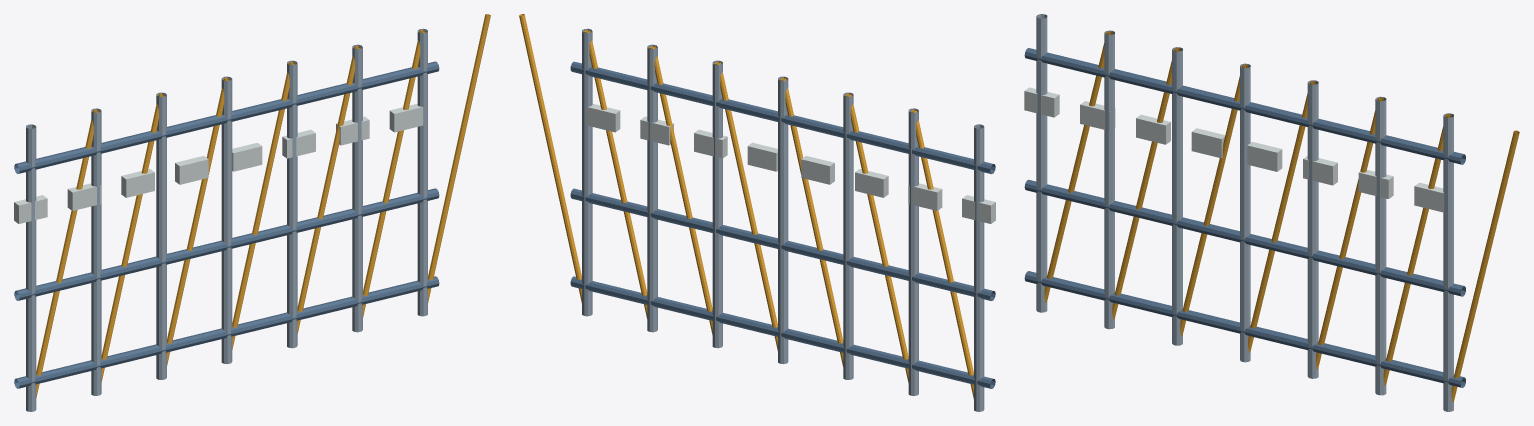
File: 03_L86_StationRobotServiceBayFrame.fbx
3 views of the same model, side by side, from view 1: azimuth 30°, elevation 25°; view 2: azimuth 150°, elevation 25°; view 3: azimuth 330°, elevation 25° (orthographic). The views are drawn at different scales.
Parts seen in each view (by area): view 1: L86_StationRobotServiceBayFrame; view 2: L86_StationRobotServiceBayFrame; view 3: L86_StationRobotServiceBayFrame.
Boxes of the visible parts, x1,y1,x2,y2 form: L86_StationRobotServiceBayFrame: [14, 14, 490, 411]; L86_StationRobotServiceBayFrame: [519, 14, 995, 411]; L86_StationRobotServiceBayFrame: [1024, 14, 1519, 411].
Size of the model in its own units: 1016 by 583 by 20.
